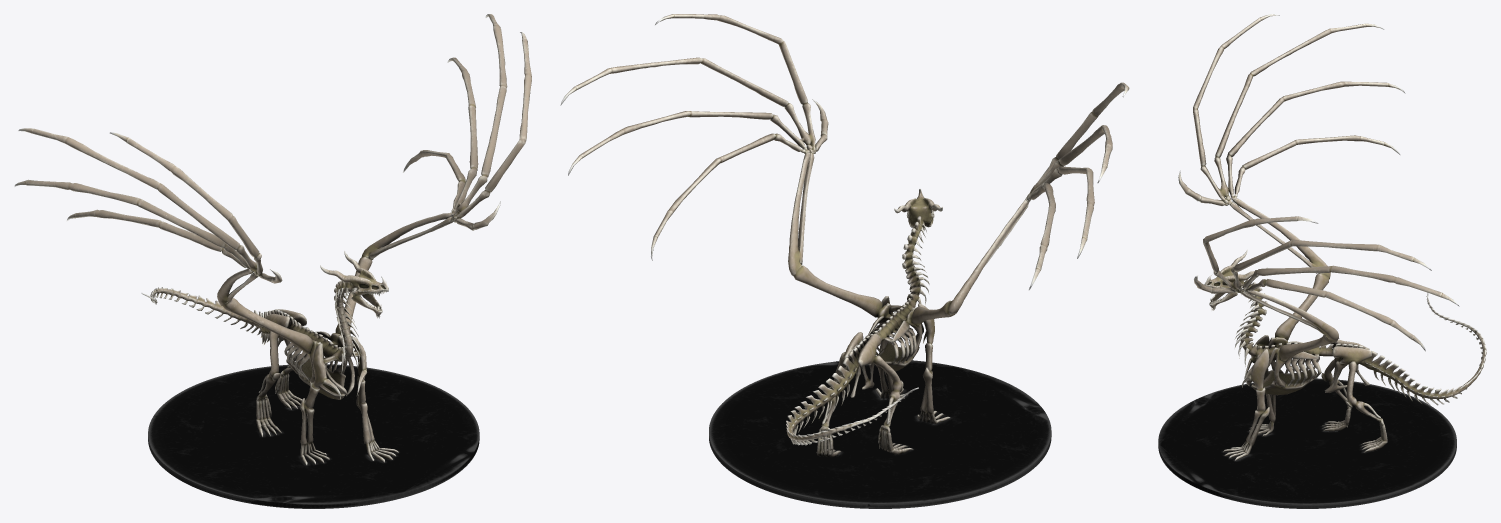
The model's file is MZ4250 - Dragon Skeleton.glb.
3 renders of one model, left to right at view 1: azimuth 30°, elevation 25°; view 2: azimuth 150°, elevation 25°; view 3: azimuth 270°, elevation 25°, orthographic. The views are drawn at different scales.
Visible parts, largest first — view 1: base_low.001, body_low.001; view 2: base_low.001, body_low.001; view 3: base_low.001, body_low.001.
Part boxes in pixels (bbox=[...]): base_low.001: bbox=[148, 364, 479, 508]; body_low.001: bbox=[14, 14, 531, 465]; base_low.001: bbox=[709, 360, 1051, 508]; body_low.001: bbox=[560, 14, 1129, 457]; base_low.001: bbox=[1158, 378, 1456, 508]; body_low.001: bbox=[1178, 14, 1486, 460].
Size of the model in its own units: 11.81 by 8.5 by 7.53.
1 material, 1 textured.
